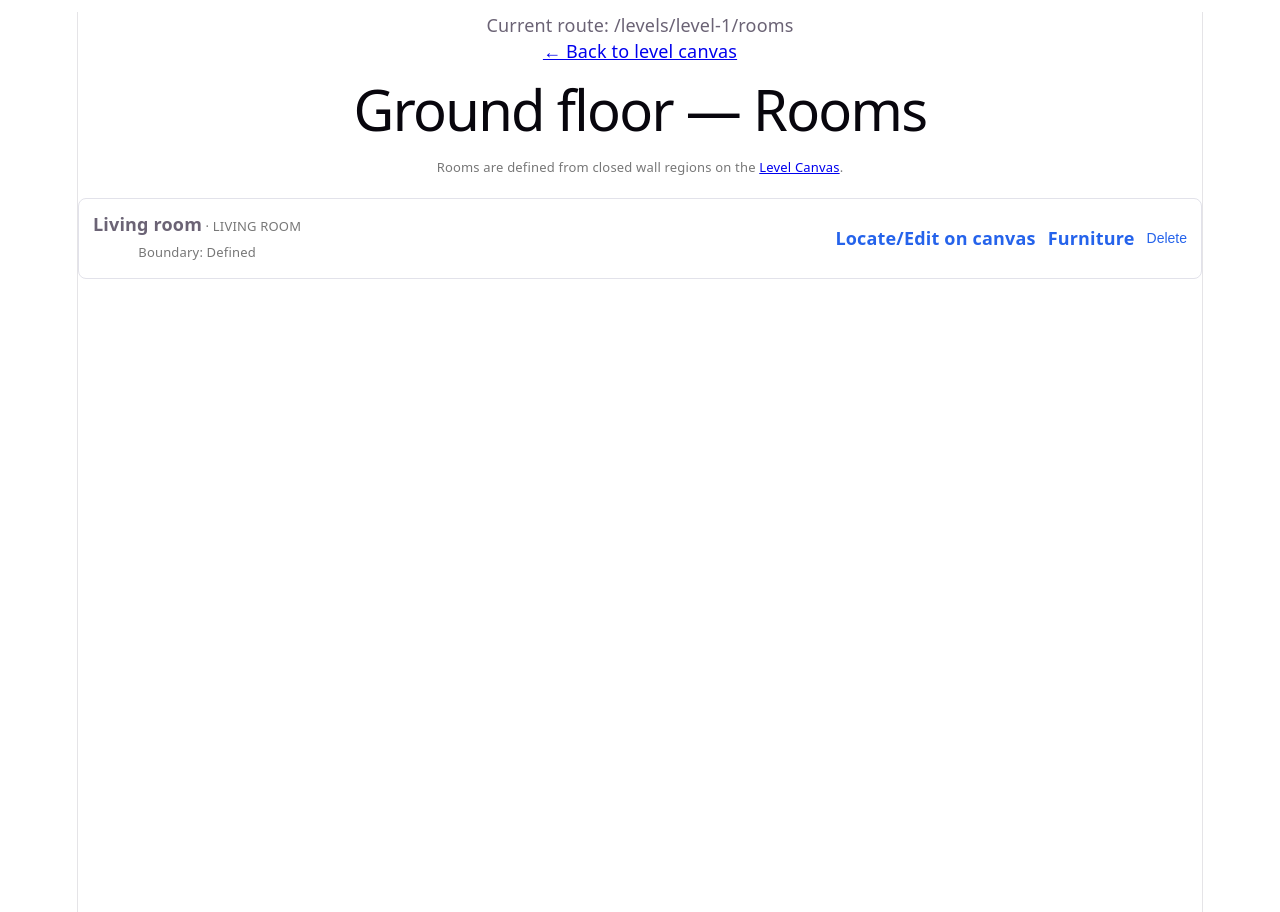
it: RoomsPage routing › deletes a room after confirmation and refreshes the list
This screenshot has width=1280, height=912.
Expected: the text "Living room" is shown, top-left (93, 212), bottom-right (202, 236)
Step 1. Click the button "Delete" → (1167, 238), box top-left (1146, 230), bottom-right (1187, 246)
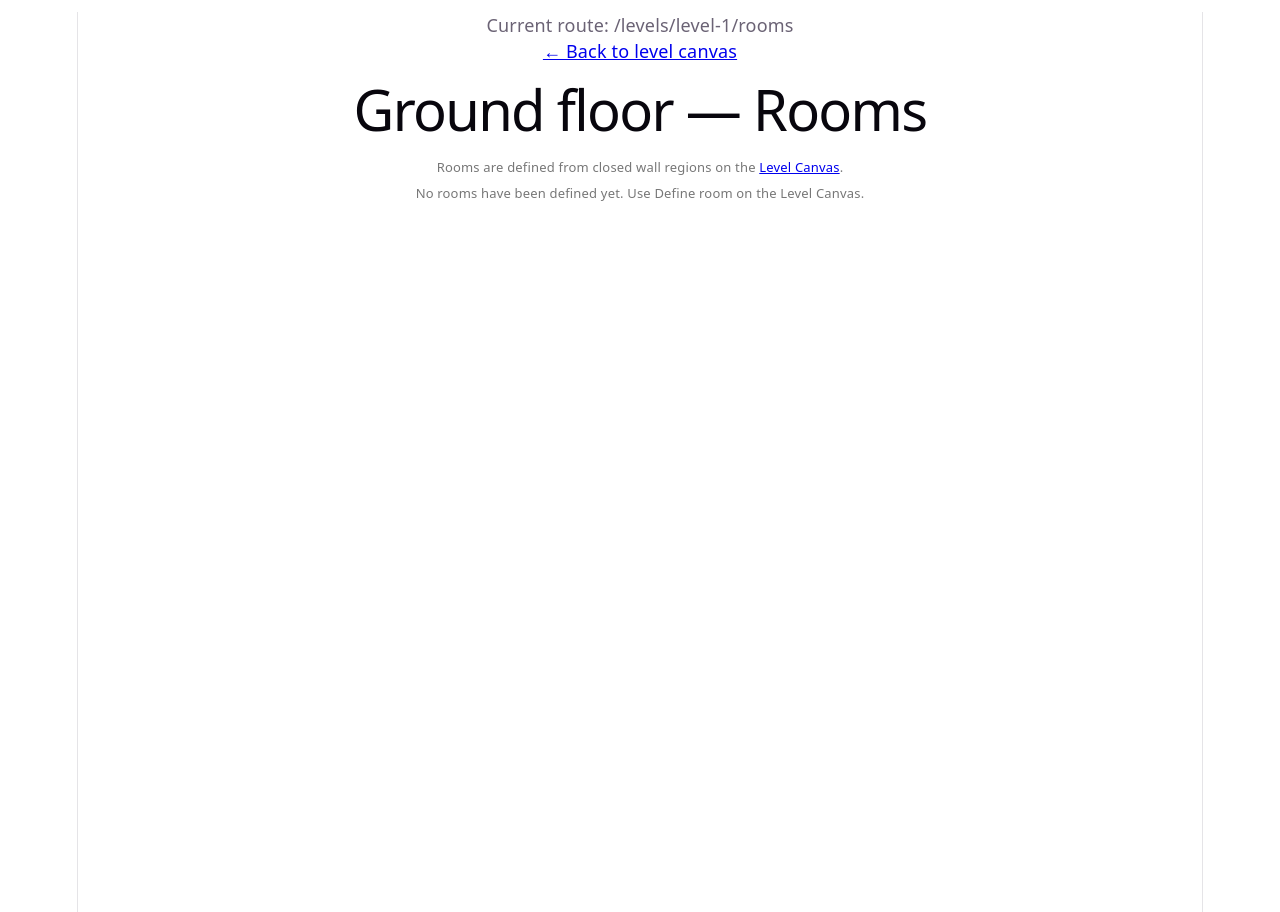
Expected: the text "No rooms have been defined yet" is shown, top-left (416, 184), bottom-right (864, 202)
